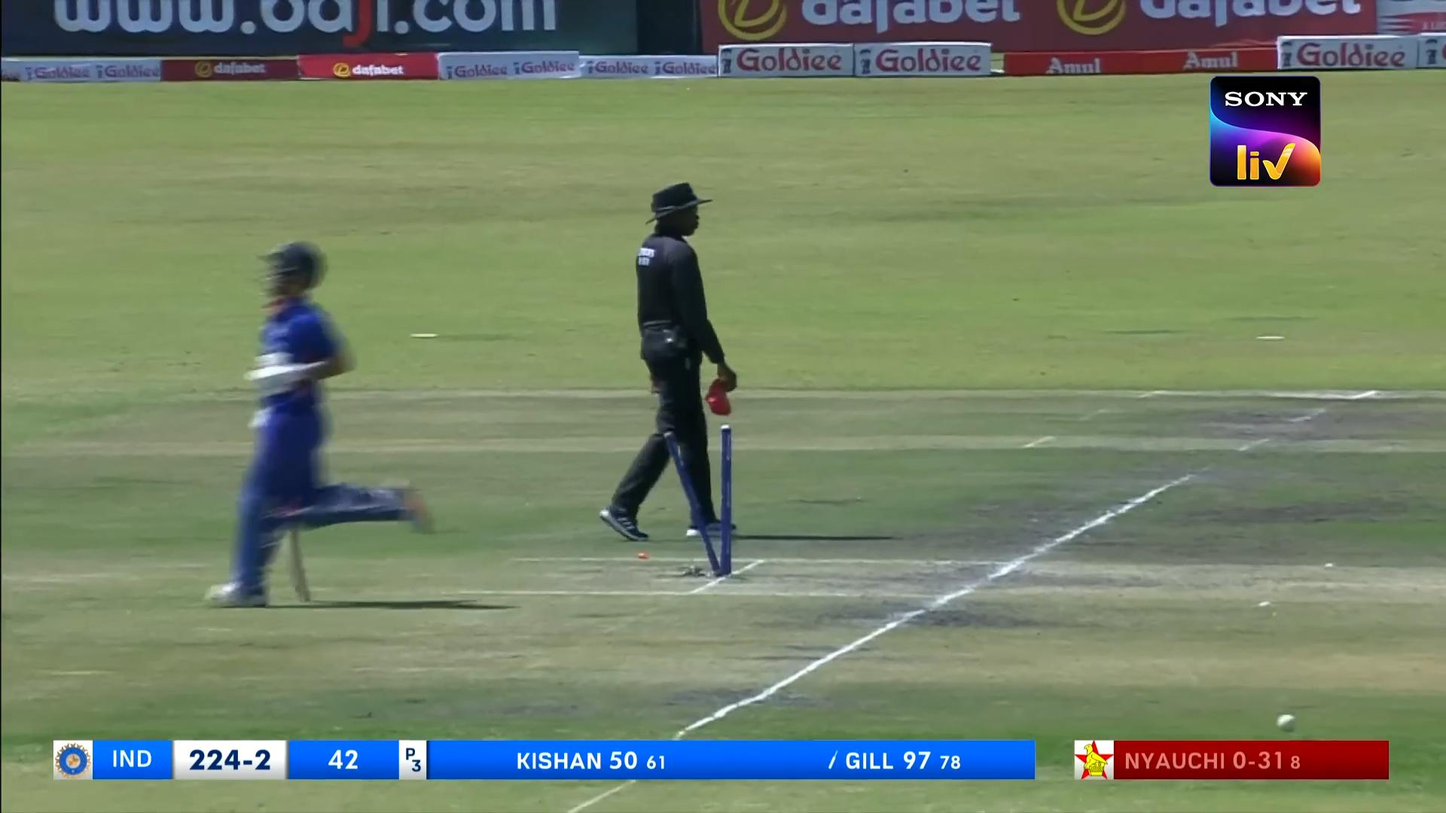batsman: (207, 240, 439, 611)
